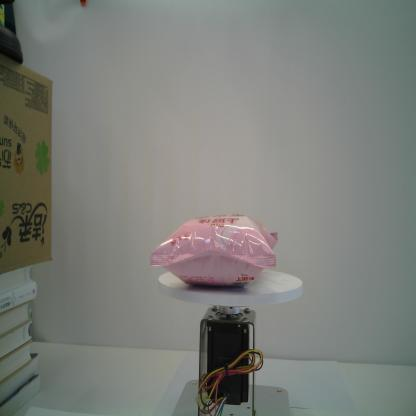Puffed Food: (150, 213, 279, 288)
